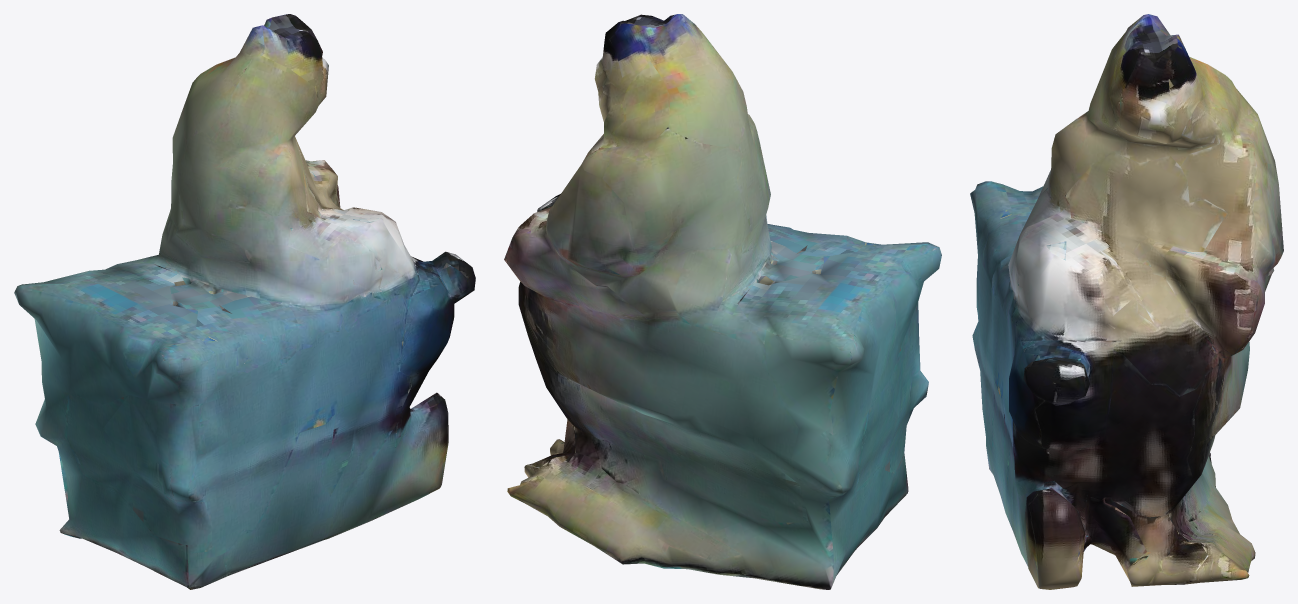
The picture shows the model from 3 angles, left to right: view 1: azimuth 30°, elevation 25°; view 2: azimuth 150°, elevation 25°; view 3: azimuth 270°, elevation 25°; orthographic projection. The views are drawn at different scales.
Parts seen in each view (by area): view 1: Mesh_0; view 2: Mesh_0; view 3: Mesh_0.
Part boxes in pixels (x1,y1,x2,y2): Mesh_0: (14, 14, 475, 589); Mesh_0: (504, 14, 941, 589); Mesh_0: (970, 14, 1283, 589).
Bounding box in the file's own units: 94.17 × 120 × 61.64.
1 material, 1 textured.
